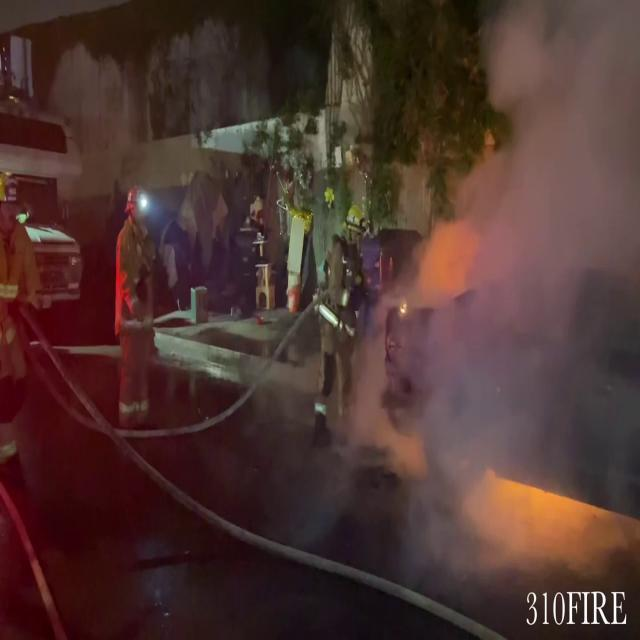Smoke: (399, 0, 640, 434)
